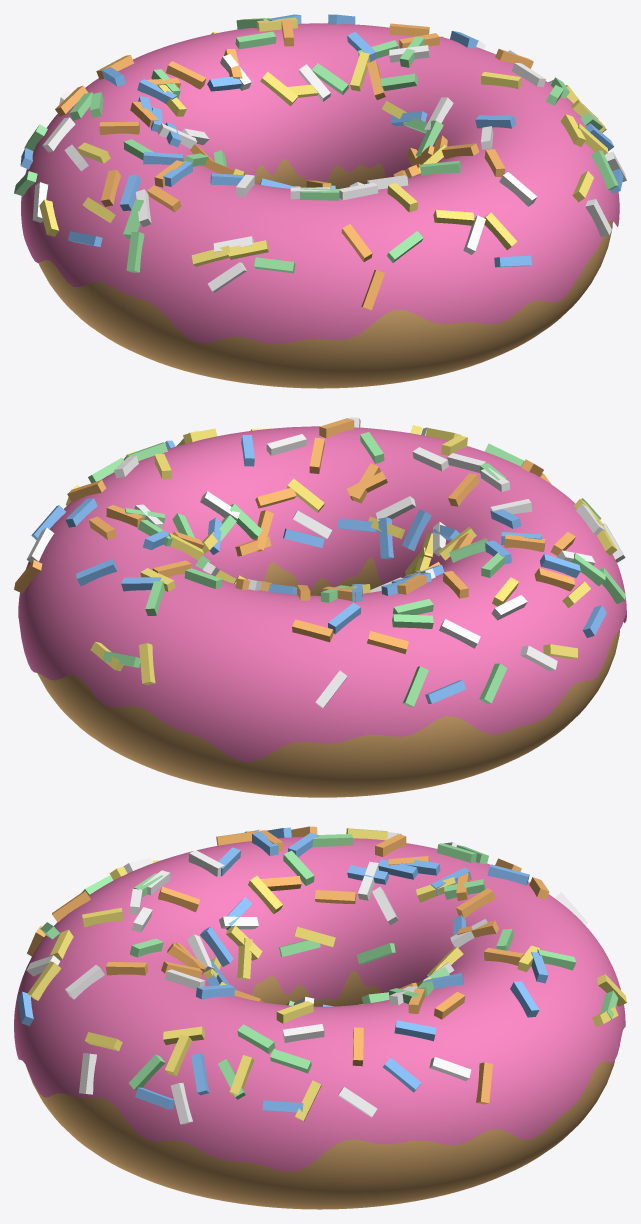
File: donut.glb
3 views of the same model, one above another, from view 1: azimuth 30°, elevation 25°; view 2: azimuth 150°, elevation 25°; view 3: azimuth 270°, elevation 25° (orthographic). The views are drawn at different scales.
Parts seen in each view (by area): view 1: Donut; view 2: Donut; view 3: Donut.
Part boxes in pixels (x1=…): Donut: x1=14, y1=14, x2=626, y2=388; Donut: x1=14, y1=417, x2=626, y2=797; Donut: x1=14, y1=826, x2=626, y2=1209.
Size of the model in its own units: 0.1381 by 0.0476 by 0.1369.
